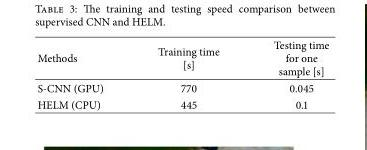table: (36, 36, 328, 111)
table column: (130, 36, 245, 111), (36, 36, 130, 111), (245, 36, 328, 111)
table column header: (36, 36, 328, 79)
table row: (36, 36, 328, 79), (36, 79, 328, 96), (36, 96, 328, 111)
